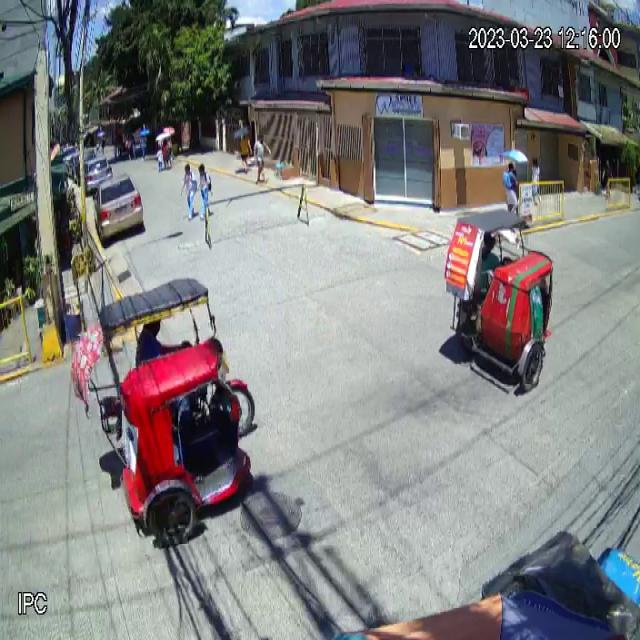Car: (93, 173, 143, 244)
Tricycle: (87, 278, 257, 550), (445, 208, 554, 394)
